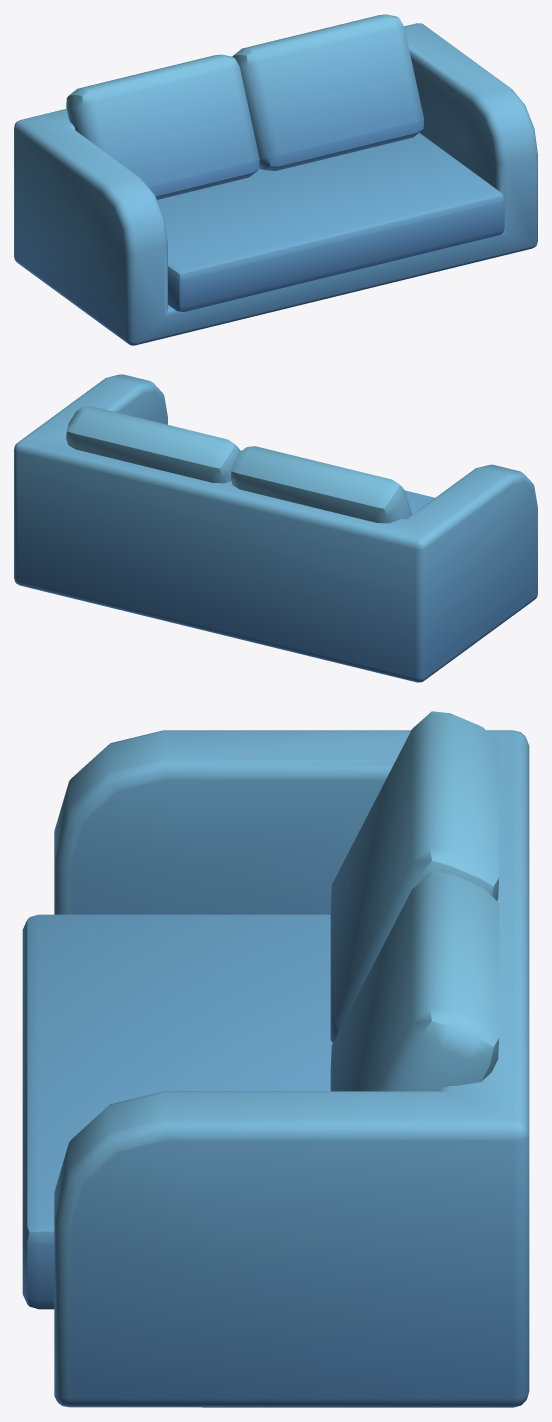
File: sofa.glb
3 views of the same model, one above another, from view 1: azimuth 30°, elevation 25°; view 2: azimuth 150°, elevation 25°; view 3: azimuth 270°, elevation 25° (orthographic). The views are drawn at different scales.
Visible parts, largest first — view 1: couch; view 2: couch; view 3: couch.
Boxes of the visible parts, x1,y1,x2,y2 form: couch: (14, 14, 537, 345); couch: (14, 374, 537, 682); couch: (22, 711, 529, 1407).
Bounding box in the file's own units: 3 × 1.22 × 1.6.
1 material, 1 textured.
